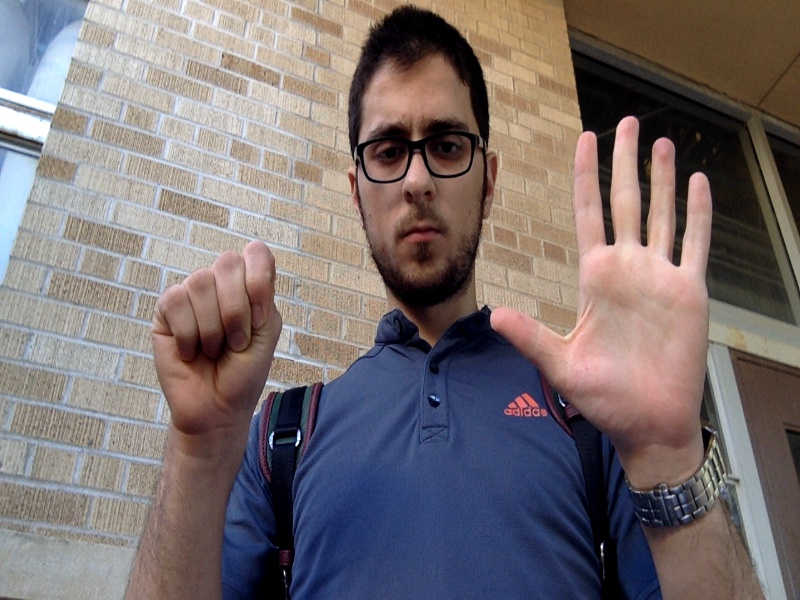0-hand: (151, 241, 282, 441)
5-hand: (491, 117, 712, 450)
